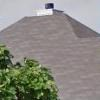Chimney: (34, 3, 63, 24)
